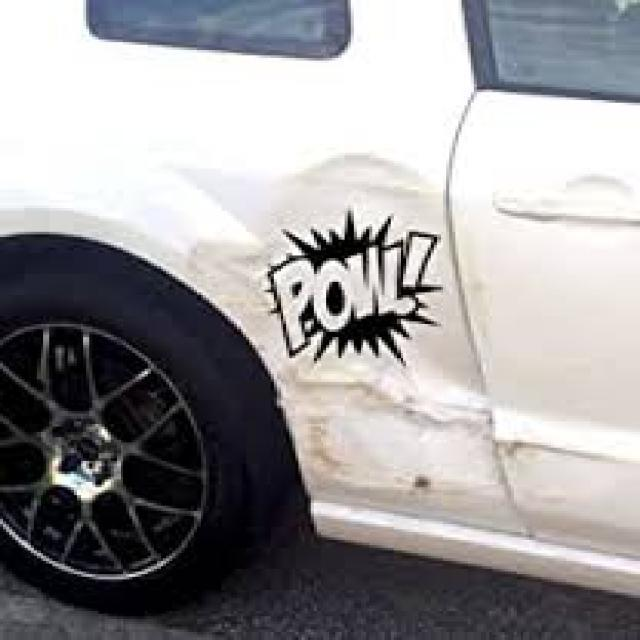dent-or-scratch: (200, 242, 483, 492)
